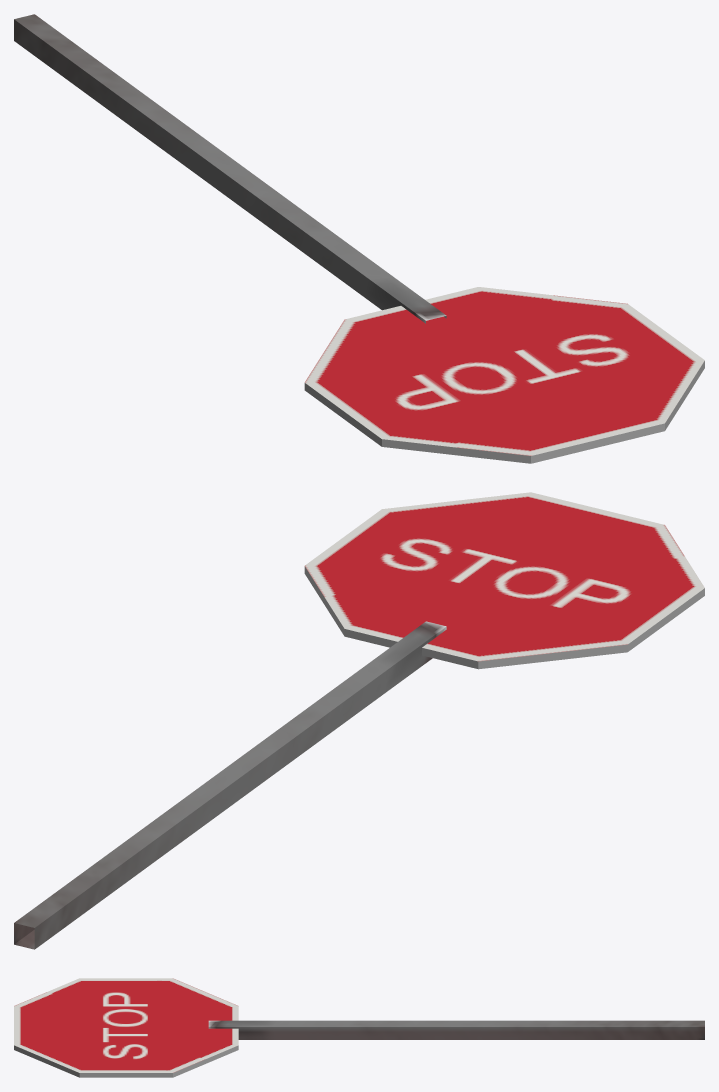
Rendered from pz_native_street_decoration_01_0.obj.
The picture shows the model from 3 angles, top to bottom: view 1: azimuth 30°, elevation 25°; view 2: azimuth 150°, elevation 25°; view 3: azimuth 270°, elevation 25°; orthographic projection. The views are drawn at different scales.
Visible parts, largest first — view 1: pz_native_street_decoration_01_0; view 2: pz_native_street_decoration_01_0; view 3: pz_native_street_decoration_01_0.
Boxes of the visible parts, x1,y1,x2,y2 form: pz_native_street_decoration_01_0: (14,14,704,463); pz_native_street_decoration_01_0: (14,492,704,949); pz_native_street_decoration_01_0: (14,978,704,1077).
Bounding box in the file's own units: 0.6094 × 0.0391 × 1.87.
1 material, 1 textured.
